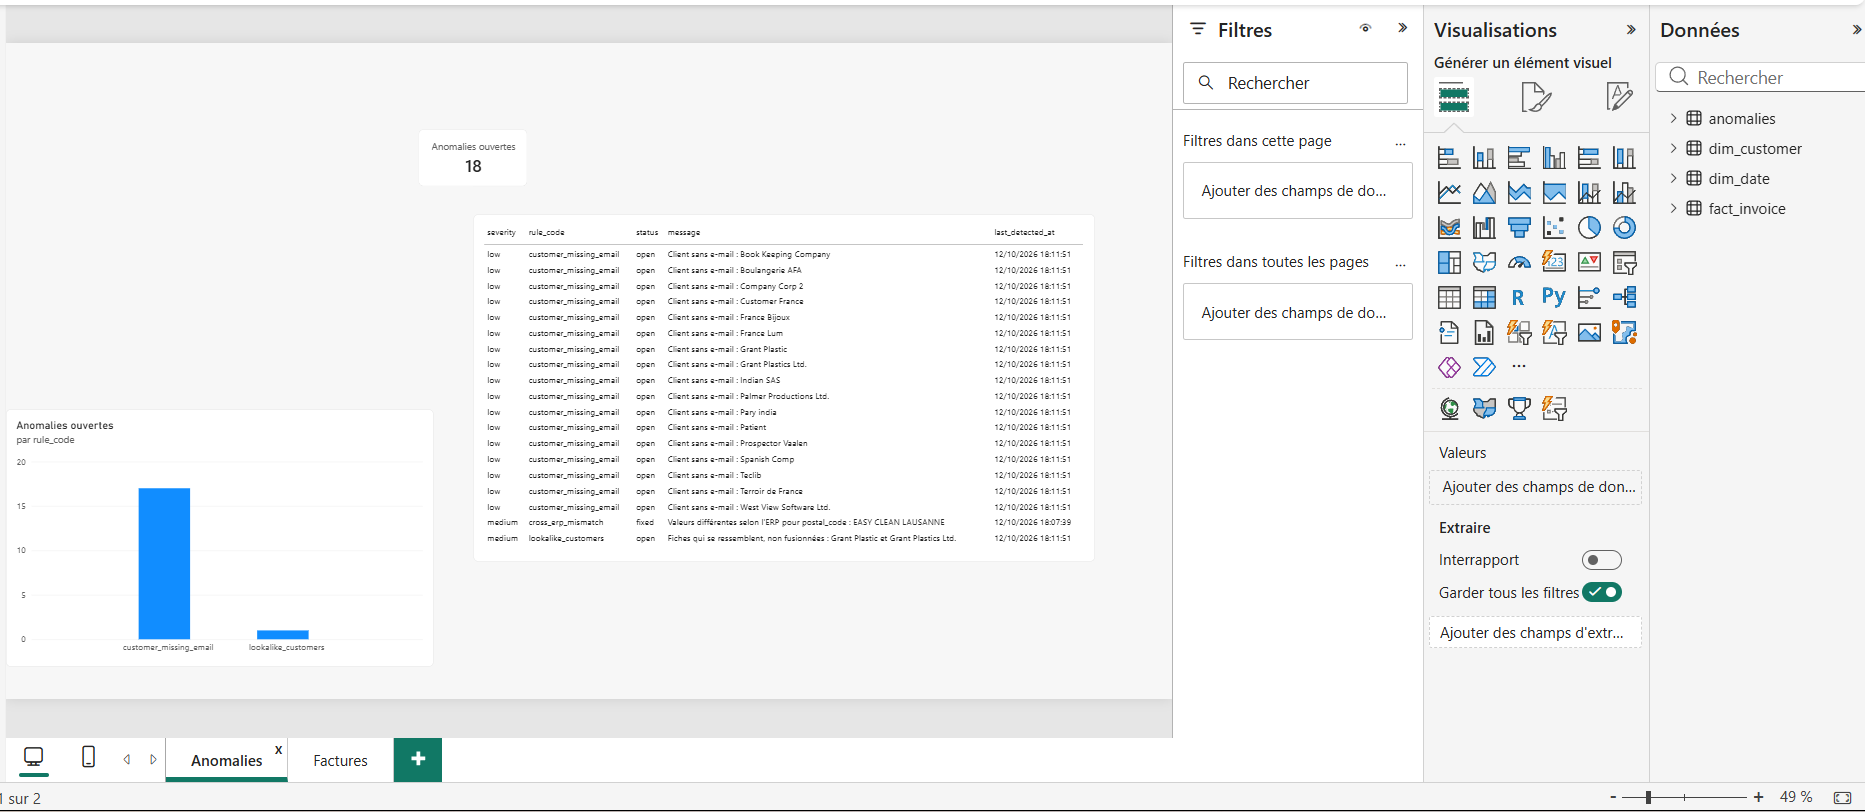

The dashboard page shown, as its layout file describes it:
{"tool":"powerbi","page":{"name":"Anomalies","canvas":[1920,1080],"ordinal":0},"visuals":[{"type":"cardVisual","fields":{"Data":["anomalies.Anomalies ouvertes"]},"box":[679.2,142,179.1,94.7],"z":0},{"type":"clusteredColumnChart","fields":{"Category":["anomalies.rule_code"],"Y":["anomalies.Anomalies ouvertes"]},"box":[0,603.1,703.9,424],"z":1},{"type":"tableEx","fields":{"Values":["anomalies.severity","anomalies.rule_code","anomalies.status","anomalies.message","anomalies.last_detected_at"]},"box":[769.8,282,1023,572.2],"z":2}]}

Visuals, with their boxes on the page's 1920x1080 design canvas (x1, y1, x2, y2). These are canvas units, not pixel positions in the 1865x812 screenshot, which may show the page scaled, cropped or inside an application window:
cardVisual - anomalies.Anomalies ouvertes: <region>679, 142, 858, 237</region>
clusteredColumnChart - anomalies.rule_code x anomalies.Anomalies ouvertes: <region>0, 603, 704, 1027</region>
tableEx - anomalies.severity x anomalies.rule_code: <region>770, 282, 1793, 854</region>
